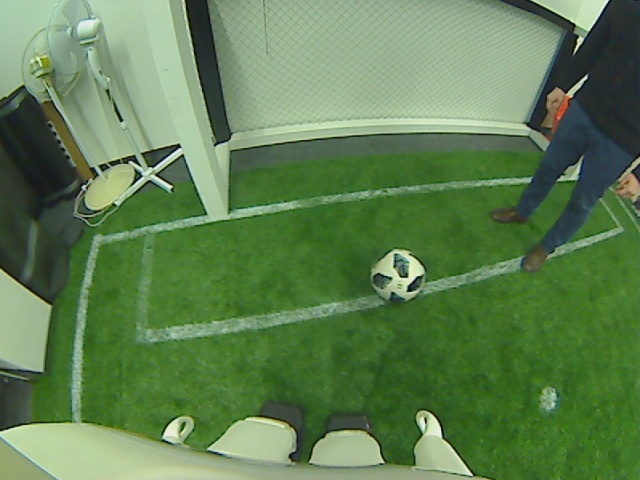ball: (368, 247, 426, 304)
